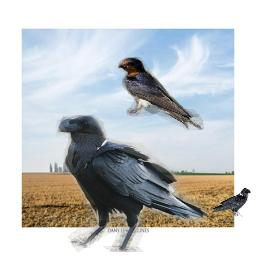Crow: (55, 115, 207, 252), (210, 188, 251, 217)
Swallow: (118, 57, 205, 132)
